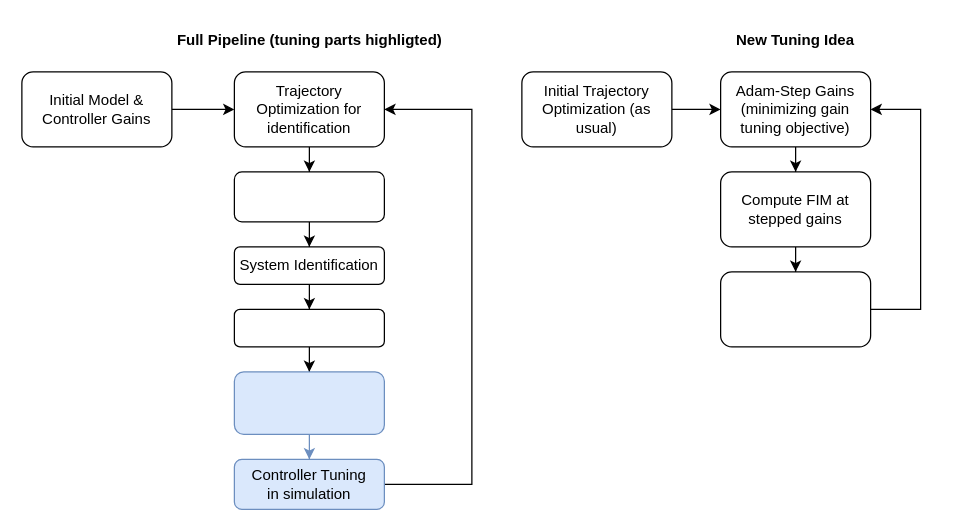
Image size: 953x531. Some labels were removed from this diagram. Here are the shapes that lost their labels. From the top down, the centre of each, then its label:
[308,196]: Data Collection from real Robot
[308,327]: Train Residual Model
[795,309]: Adam-Step Trajectory Control Points and Offsets (minimizing FIM objective)
[308,402]: Trajectory Optimization for Controller Tuning
